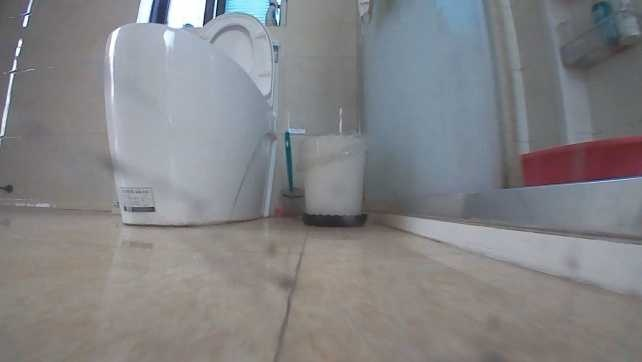toilet: (98, 10, 288, 226)
trash_can: (289, 131, 370, 225)
